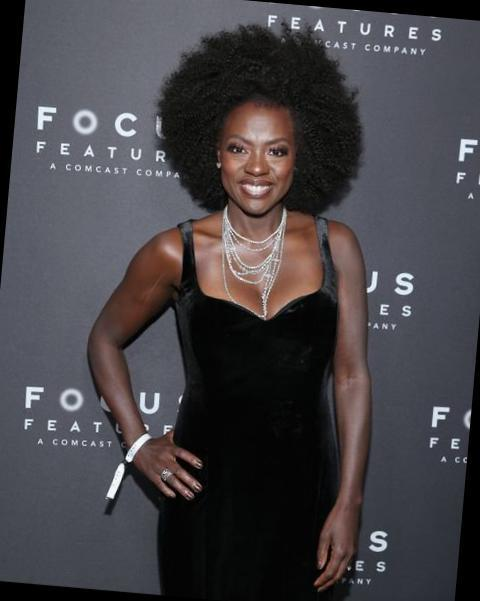Sober: (225, 108, 298, 207)
